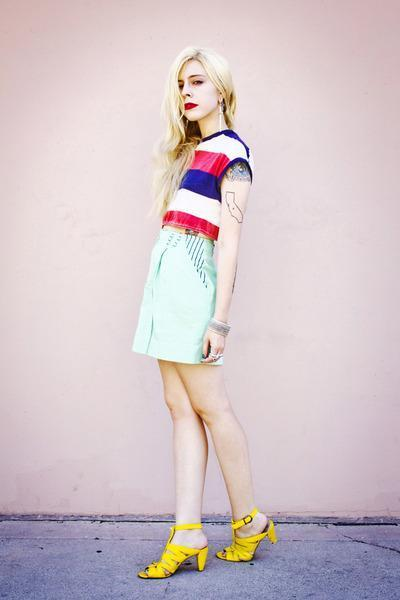shirt: (169, 129, 251, 222)
shoe: (148, 509, 276, 576)
skirt: (128, 211, 216, 363)
